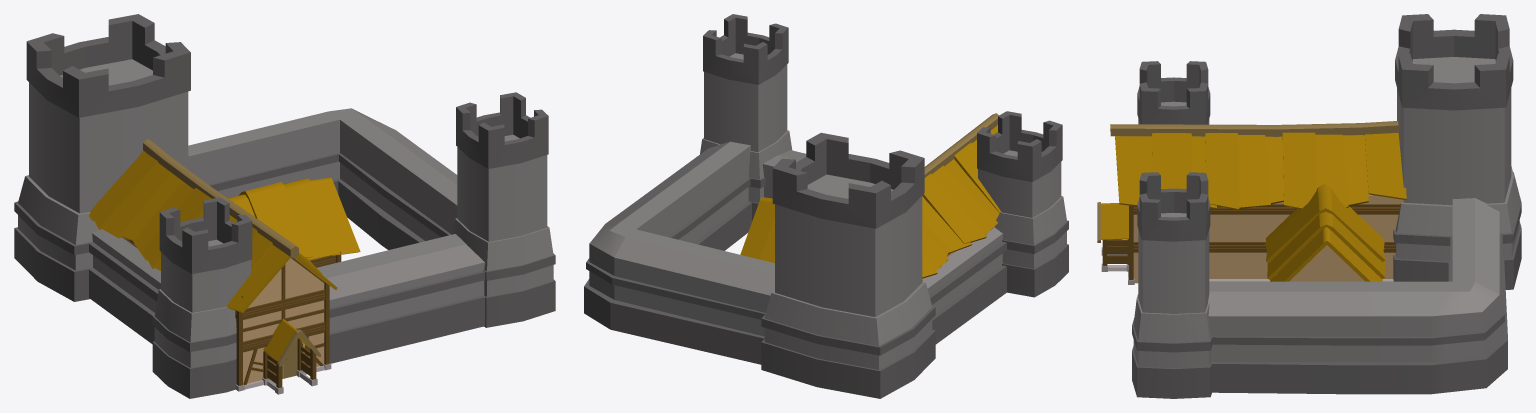
Rendered from mesh_Barracks.fbx.
3 views of the same model, side by side, from view 1: azimuth 30°, elevation 25°; view 2: azimuth 150°, elevation 25°; view 3: azimuth 270°, elevation 25° (orthographic). The views are drawn at different scales.
Visible parts, largest first — view 1: Barracks; view 2: Barracks; view 3: Barracks.
Part boxes in pixels (x1=…): Barracks: x1=14, y1=14, x2=555, y2=398; Barracks: x1=584, y1=14, x2=1068, y2=398; Barracks: x1=1097, y1=14, x2=1521, y2=398.
Size of the model in its own units: 2814 by 1569 by 2795.
1 material, 1 textured.
